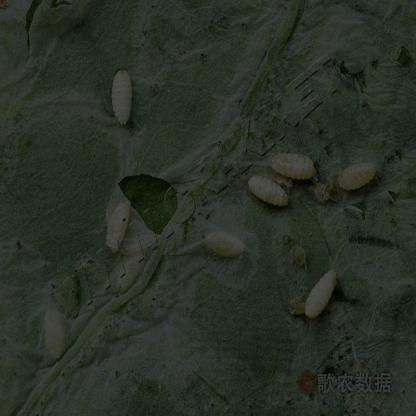whorl-maggot: (303, 261, 339, 321), (335, 154, 382, 196), (108, 63, 138, 126), (246, 170, 292, 210), (270, 148, 316, 183), (202, 226, 245, 261), (44, 305, 67, 360), (107, 204, 131, 254)
